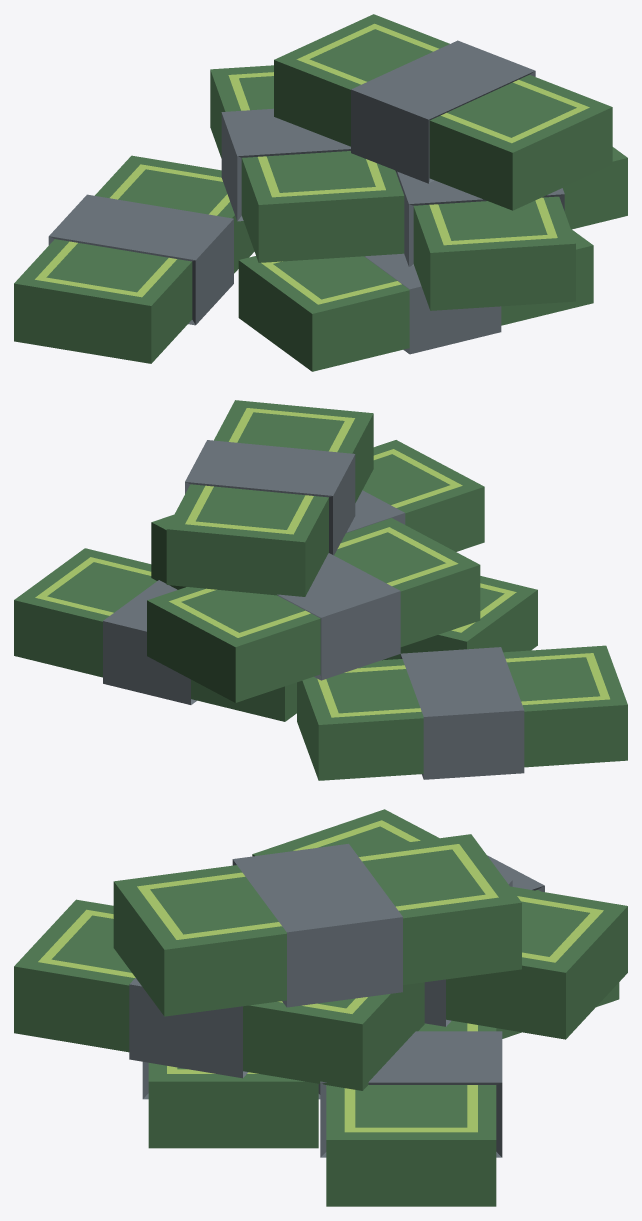
Rendered from Theftable_MoneyPile.fbx.
3 views of the same model, one above another, from view 1: azimuth 30°, elevation 25°; view 2: azimuth 150°, elevation 25°; view 3: azimuth 270°, elevation 25° (orthographic). The views are drawn at different scales.
Parts seen in each view (by area): view 1: Cube.301; view 2: Cube.301; view 3: Cube.301.
Boxes of the visible parts, <box> form: Cube.301: <box>14,14,627,371</box>; Cube.301: <box>14,400,627,780</box>; Cube.301: <box>14,809,627,1206</box>.
Bounding box in the file's own units: 46.36 × 14.45 × 36.31.
